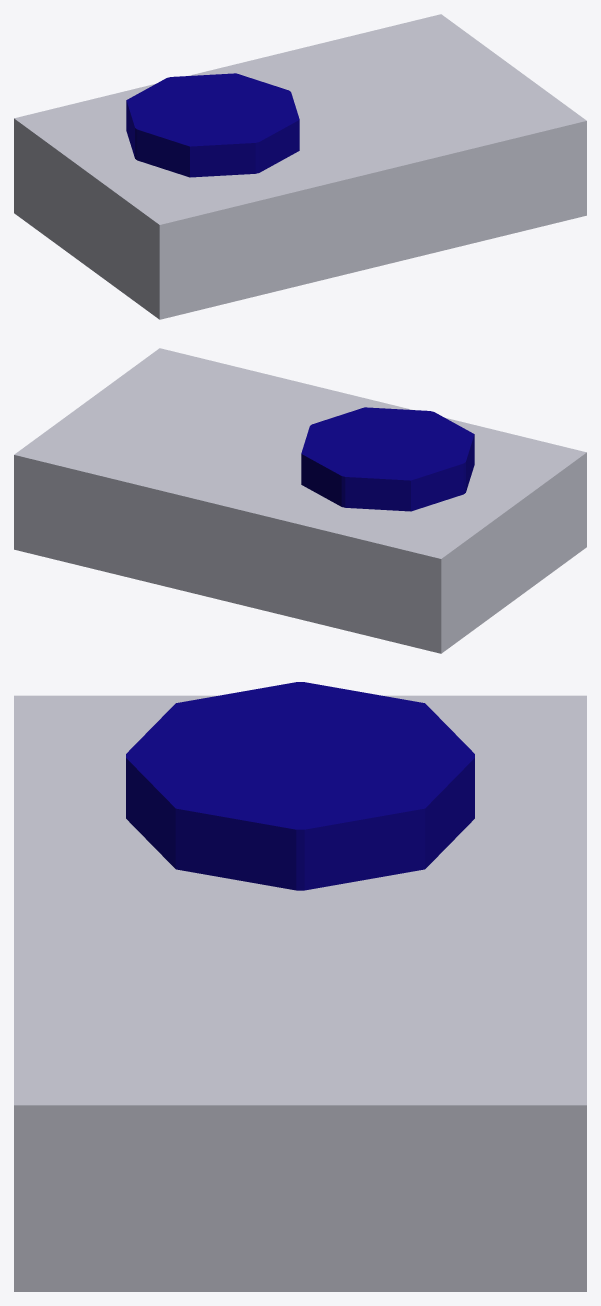
File: Lowpoly doorbell.fbx
The picture shows the model from 3 angles, top to bottom: view 1: azimuth 30°, elevation 25°; view 2: azimuth 150°, elevation 25°; view 3: azimuth 270°, elevation 25°; orthographic projection. The views are drawn at different scales.
Visible parts, largest first — view 1: Cube, Cube.001; view 2: Cube, Cube.001; view 3: Cube, Cube.001.
Part boxes in pixels (<box>): Cube: <box>14,14,586,319</box>; Cube.001: <box>126,73,299,177</box>; Cube: <box>14,348,586,653</box>; Cube.001: <box>301,407,474,511</box>; Cube: <box>14,695,586,1291</box>; Cube.001: <box>126,682,474,890</box>.
Bounding box in the file's own units: 440 × 124 × 260.
